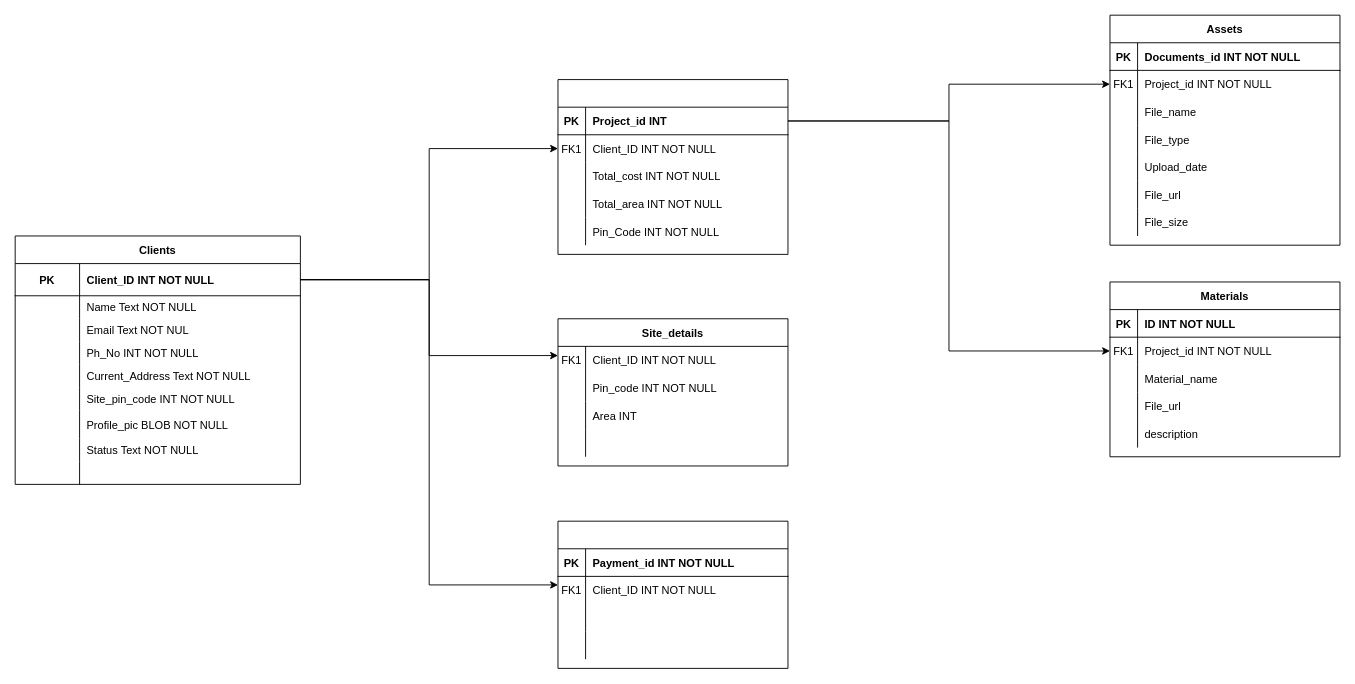
The diagram is 1355 pixels wide and 684 high, and some of its shapes have lost their labels. Here are the shapes that lost their labels. From the top down, the box of each, then its label:
(557, 79, 788, 254): Project_details
(557, 520, 788, 668): Payment_status
